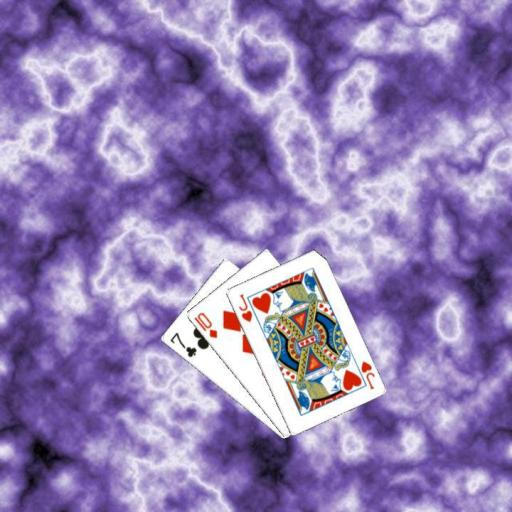10D: (191, 309, 218, 340)
7C: (166, 329, 198, 359)
JH: (236, 291, 254, 323), (358, 358, 376, 390)
